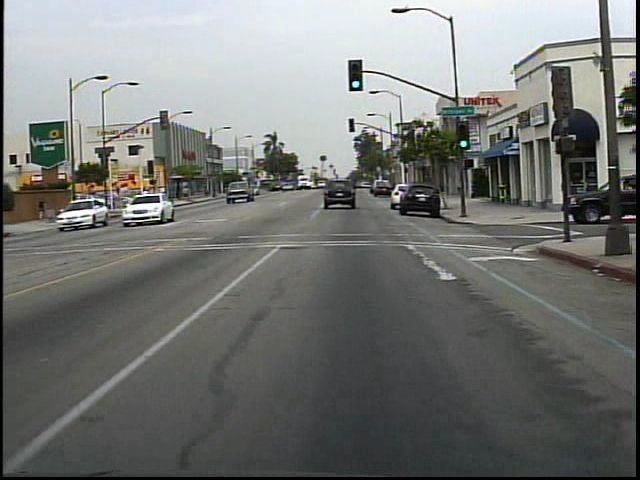person: (35, 195, 54, 224), (140, 185, 156, 209)
